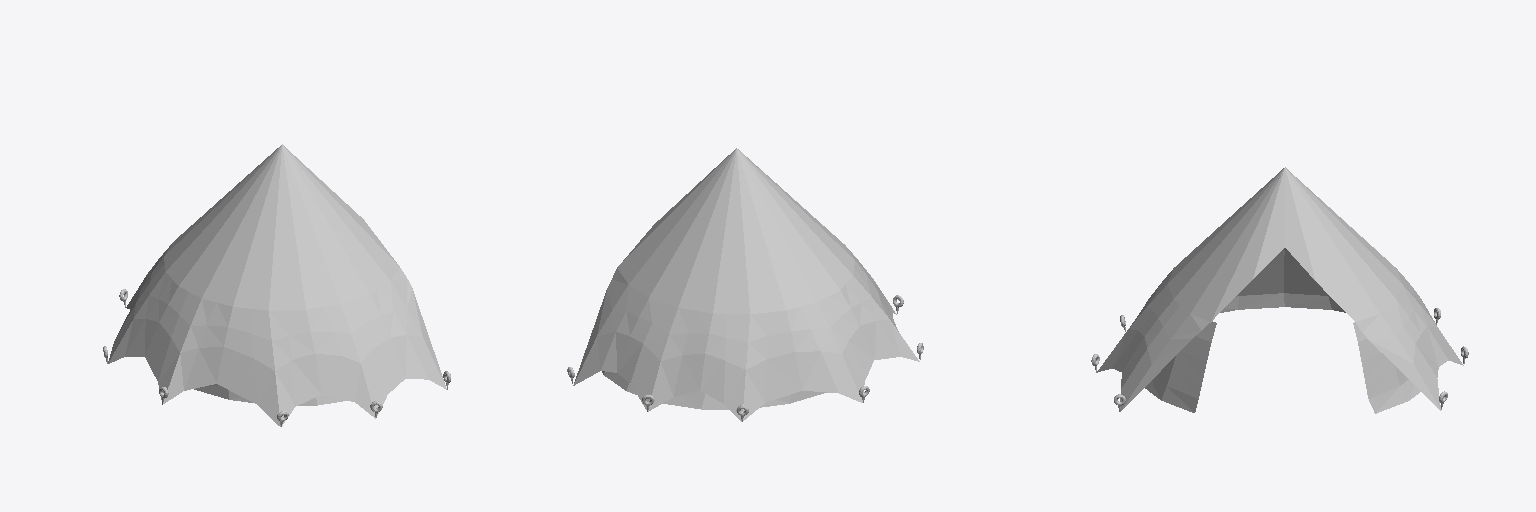
Rendered from campaña.obj.
3 renders of one model, left to right at view 1: azimuth 30°, elevation 25°; view 2: azimuth 150°, elevation 25°; view 3: azimuth 270°, elevation 25°, orthographic.
Visible parts, largest first — view 1: pCone2; view 2: pCone2; view 3: pCone2.
Part boxes in pixels (bbox=[...]): pCone2: bbox=[103, 144, 450, 426]; pCone2: bbox=[567, 148, 923, 421]; pCone2: bbox=[1091, 167, 1468, 413].
Size of the model in its own units: 90.8 by 70.56 by 117.